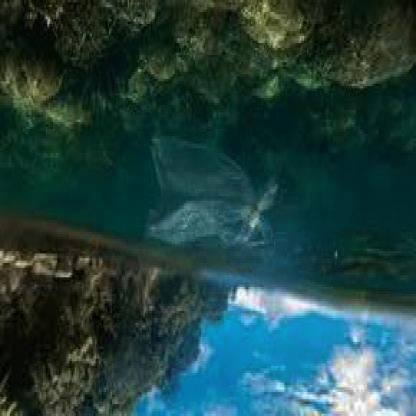pbag: (143, 134, 280, 256)
